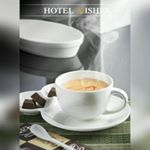cups: (53, 68, 130, 123)
